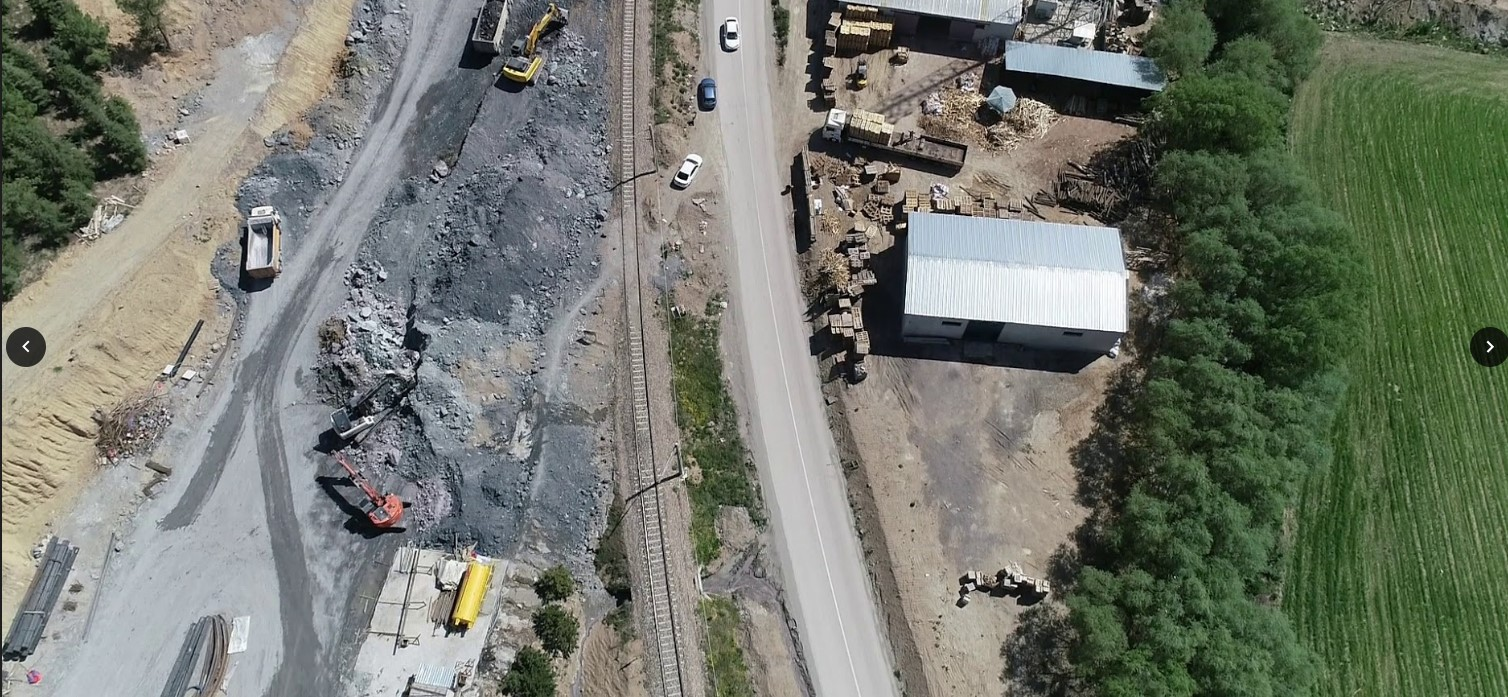araba: (672, 149, 699, 188), (719, 10, 742, 52), (695, 78, 723, 108)
ismakinasi: (321, 447, 413, 533), (497, 1, 582, 89), (326, 371, 411, 436)
kamyon: (820, 108, 972, 177), (244, 202, 286, 278)
